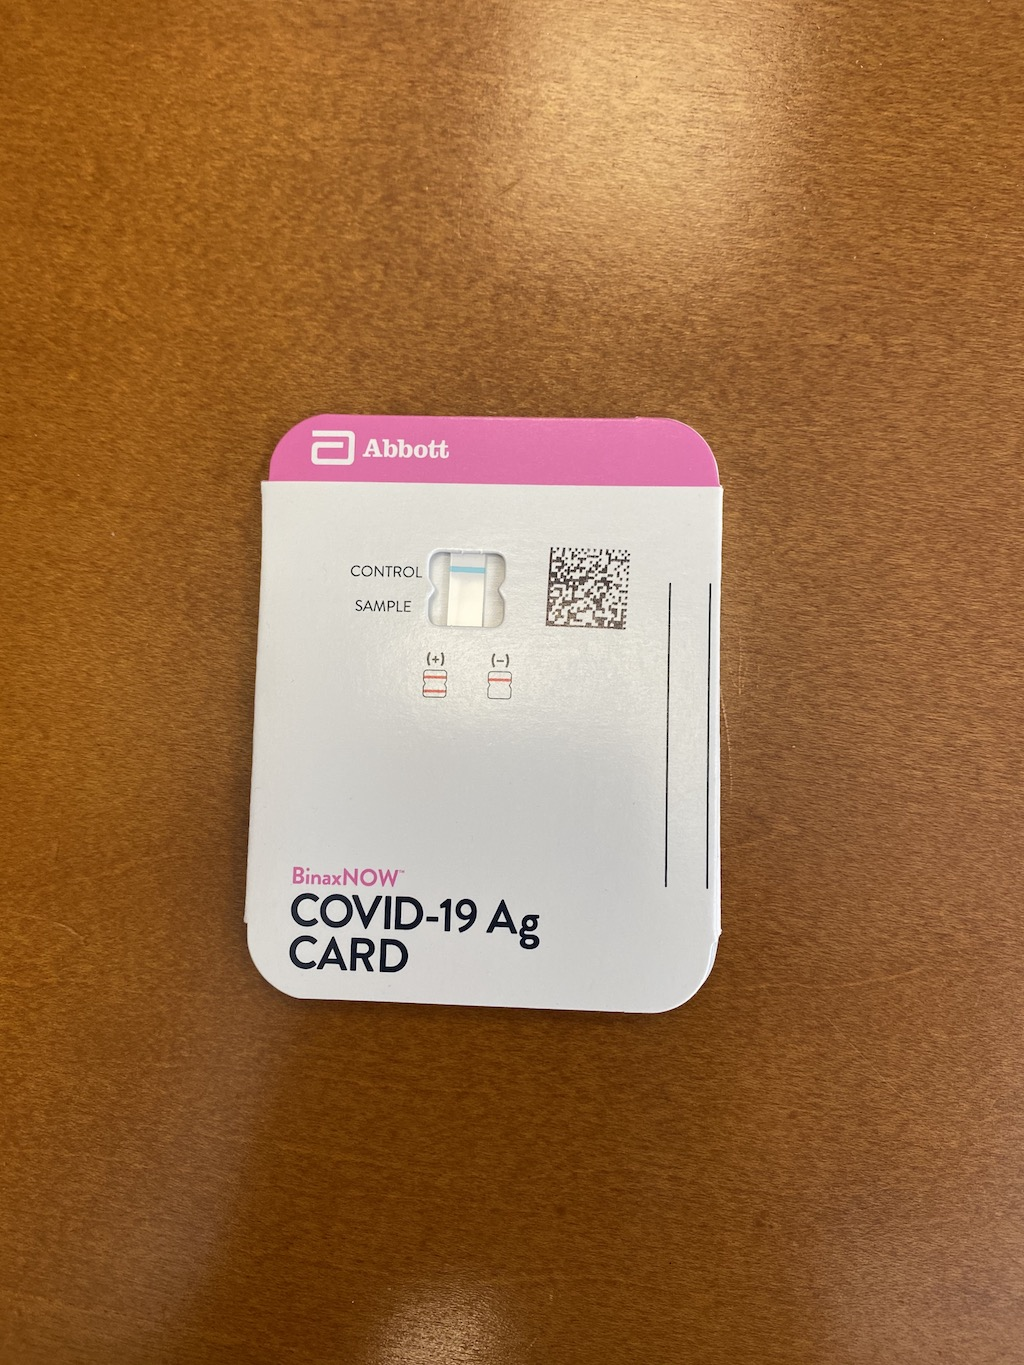binax-negative: (221, 393, 755, 1032)
